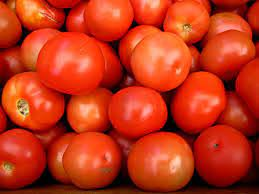tomato: (36, 31, 103, 89), (196, 124, 254, 186), (132, 132, 191, 186), (1, 74, 64, 124), (62, 128, 121, 177), (131, 33, 182, 84), (174, 71, 218, 127), (113, 86, 163, 128), (67, 92, 113, 133)
